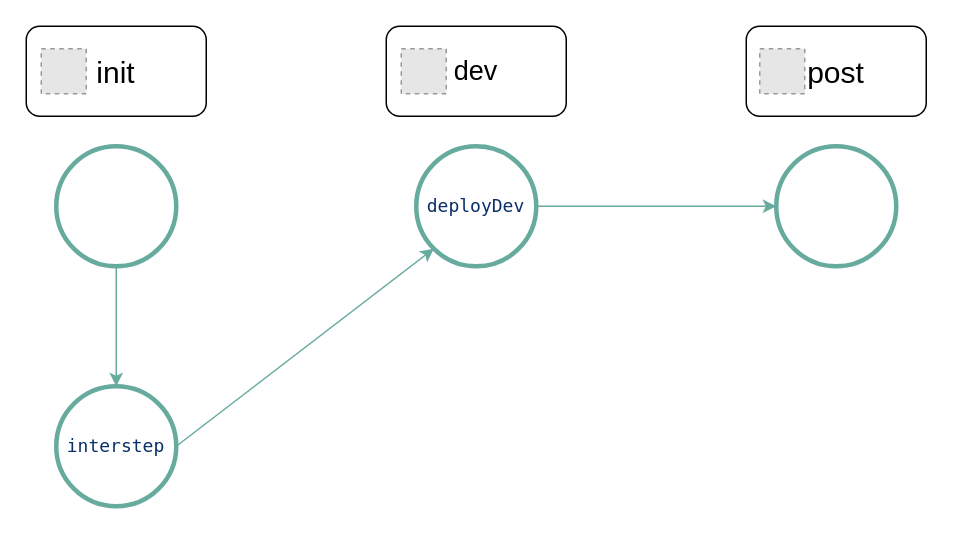
The diagram is 953 pixels wide and 534 high, and some of its shapes have lost their labels. Grey dashed boxes stand in for pictures. The shapes that lost their labels are listed below. From the top down, each one's centre as x and y in pixels, then its label:
the point at 115,205: build
the point at 835,205: jenkins
